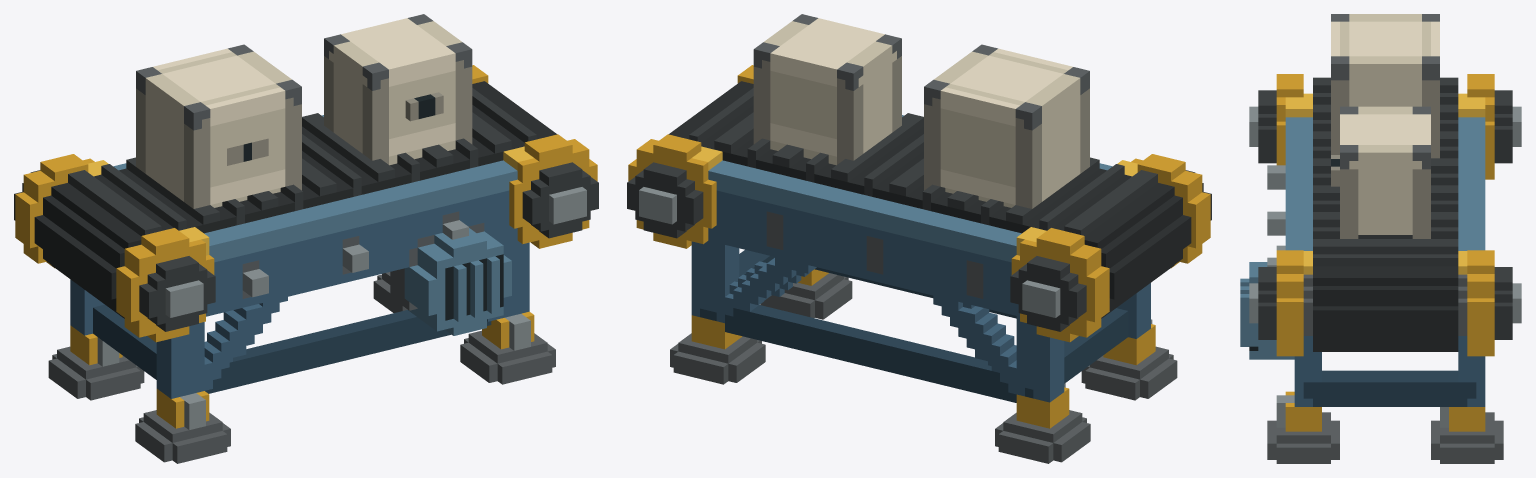
Rendered from conveyor.glb.
3 renders of one model, left to right at view 1: azimuth 30°, elevation 25°; view 2: azimuth 150°, elevation 25°; view 3: azimuth 270°, elevation 25°, orthographic. The views are drawn at different scales.
Parts seen in each view (by area): view 1: conveyor; view 2: conveyor; view 3: conveyor.
Boxes of the visible parts, x1,y1,x2,y2 form: conveyor: (14, 14, 598, 463); conveyor: (627, 14, 1211, 463); conveyor: (1240, 14, 1521, 463).
Size of the model in its own units: 5.04 by 3.24 by 2.79.
